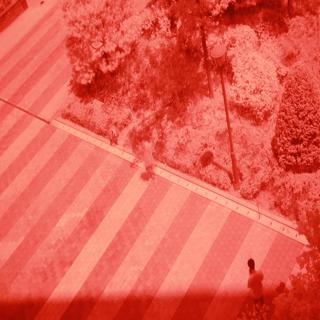person: (243, 256, 270, 307)
